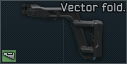KRISS Vector Gen.2 folding stock: (0, 0, 127, 64)
